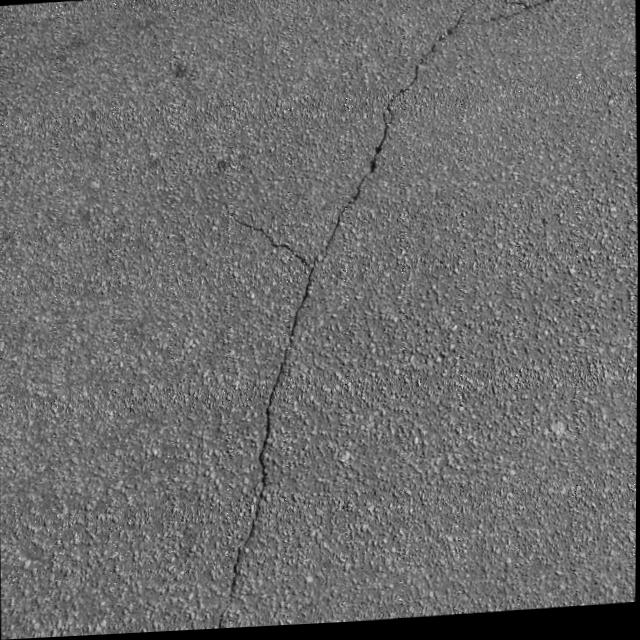Crack: (204, 0, 595, 632)
